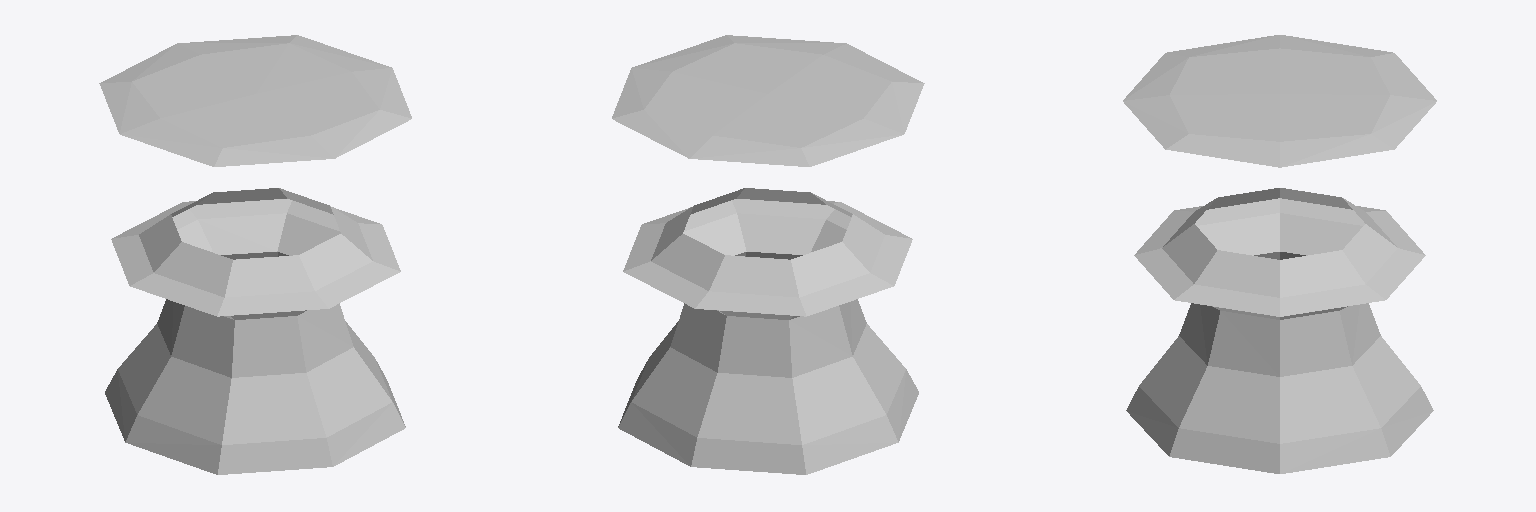
Rendered from baraban(white).obj.
3 renders of one model, left to right at view 1: azimuth 30°, elevation 25°; view 2: azimuth 150°, elevation 25°; view 3: azimuth 270°, elevation 25°, orthographic.
Parts seen in each view (by area): view 1: White_Cube.001; view 2: White_Cube.001; view 3: White_Cube.001.
Part boxes in pixels (x1,y1,x2,y2): White_Cube.001: (99, 35, 411, 474); White_Cube.001: (612, 35, 924, 474); White_Cube.001: (1123, 35, 1436, 473).
Size of the model in its own units: 1.76 by 1.99 by 1.76.